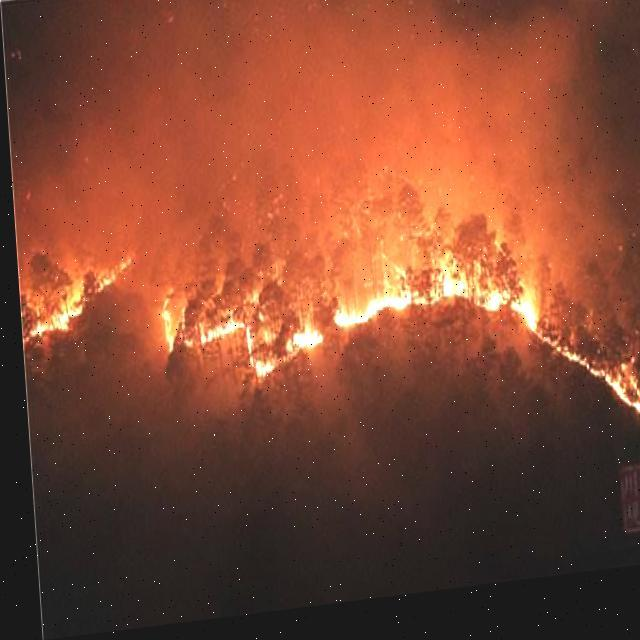Fire: (153, 216, 639, 487), (18, 241, 134, 357)
